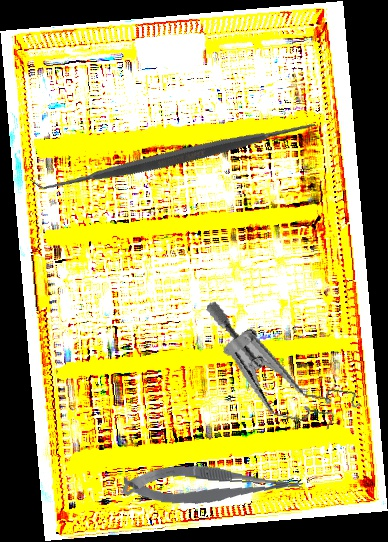Micro Scissor: (122, 458, 304, 516)
Spatula Surgical: (29, 7, 327, 306)
Speculum: (185, 297, 378, 440)
